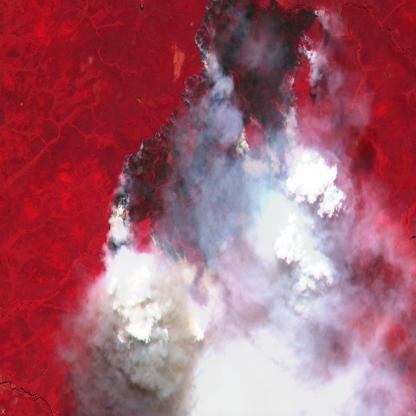fire: (115, 0, 324, 287)
